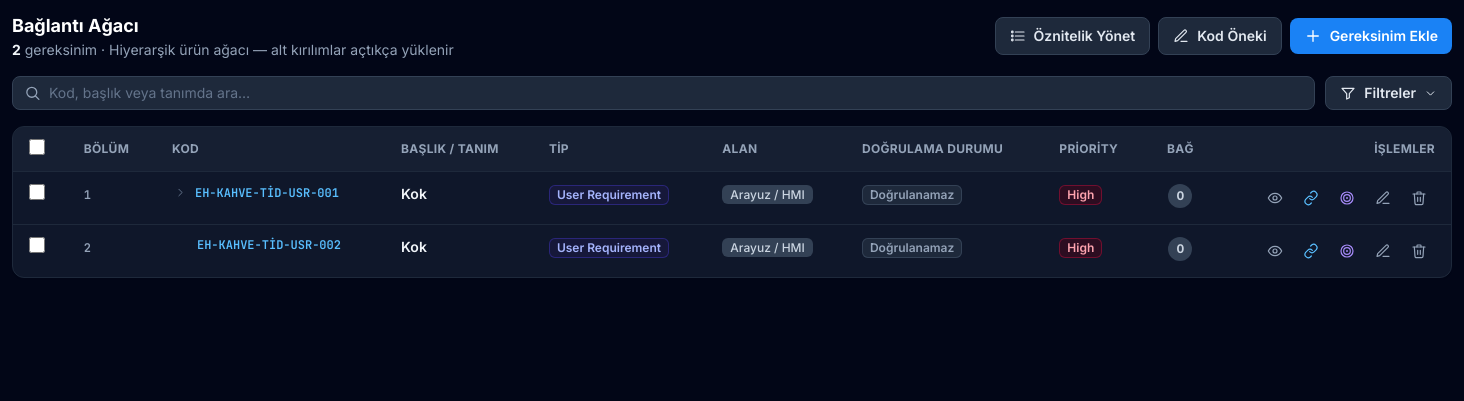
PbsTree — gereksinim tablosu + PBS hiyerarsisi › DOORS tarzi bolum numaralari uretir: 1, 1.1, 1.2 / 2
This screenshot has width=1464, height=401.
Expected: the text "EH-KAHVE-TİD-USR-001" is shown, x1=195 y1=184 x2=339 y2=200
Expected: the text "1" is shown, x1=84 y1=187 x2=91 y2=203
What coordinates should you click on to do the following:
click the button named "alt kırılımları aç"
I would click on:
 (180, 192)
Its box is x1=172 y1=184 x2=189 y2=201.
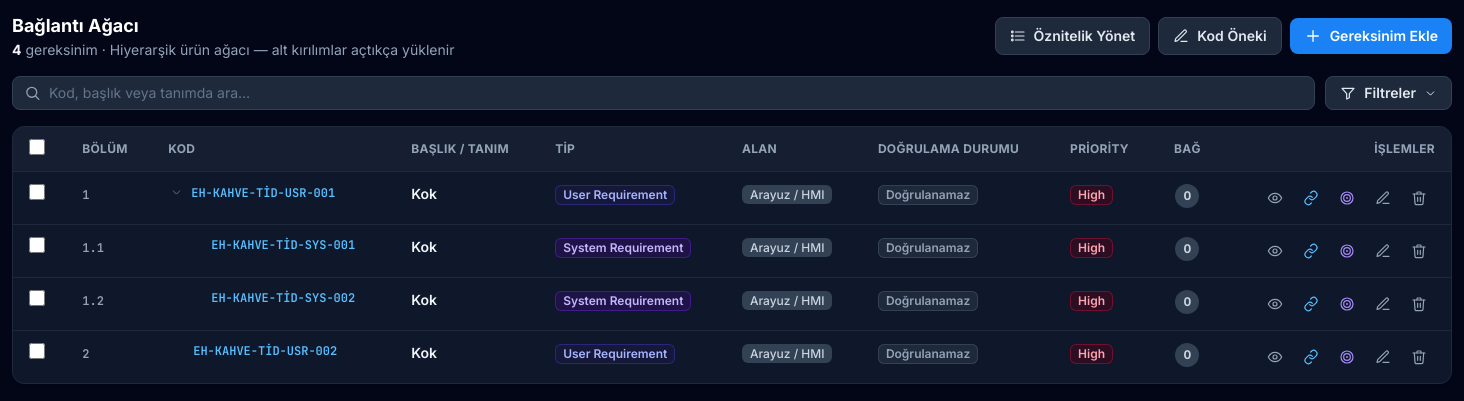
Expected: the text "EH-KAHVE-TİD-SYS-001" is shown, x1=211 y1=237 x2=355 y2=253
Expected: the text "1.1" is shown, x1=82 y1=240 x2=104 y2=256
Expected: the text "1.2" is shown, x1=82 y1=293 x2=104 y2=309
